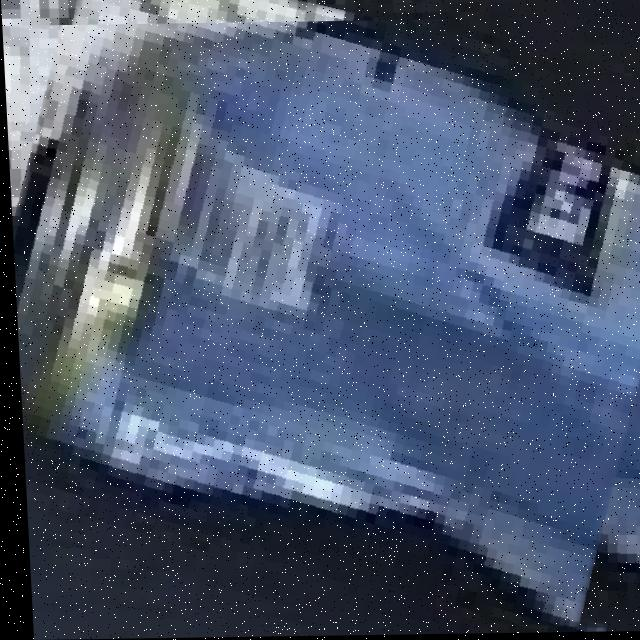litter: (11, 21, 640, 630)
